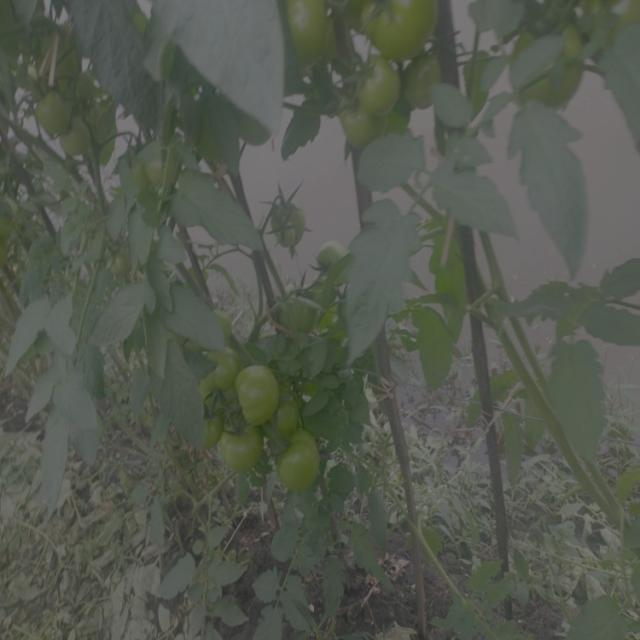tomato: (355, 1, 444, 55), (345, 56, 410, 108), (280, 1, 337, 56), (230, 361, 279, 424), (271, 428, 321, 488), (138, 137, 188, 197), (28, 81, 76, 139), (258, 191, 306, 245), (272, 288, 323, 335), (213, 426, 259, 476), (310, 234, 360, 279), (194, 360, 235, 414), (337, 115, 386, 154), (328, 462, 354, 505), (278, 394, 310, 428)
